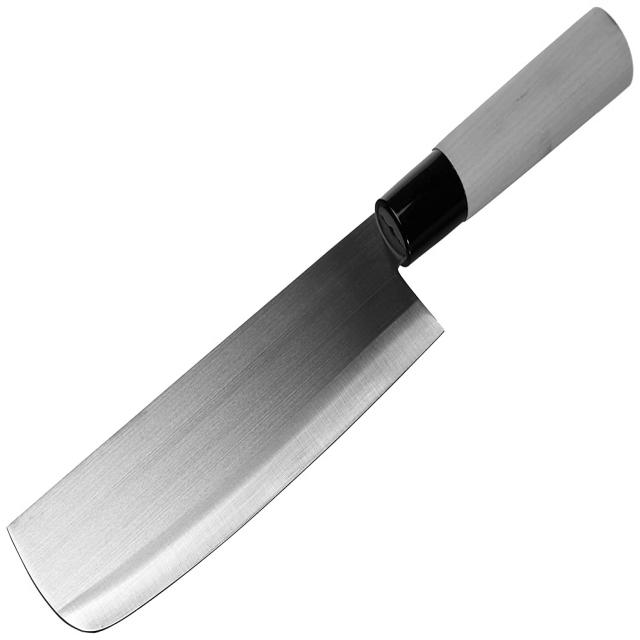Knife: (0, 0, 605, 640)
